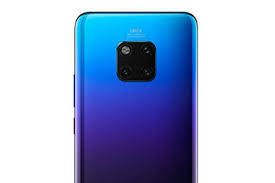huawei: (70, 7, 199, 183)
